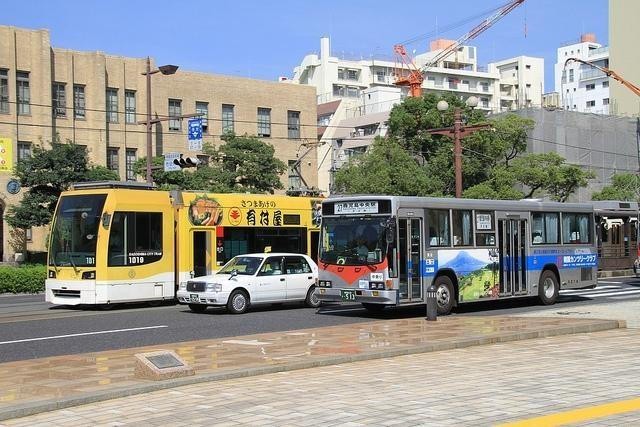bus: (43, 185, 322, 306), (312, 198, 596, 306), (633, 210, 640, 278)
car: (178, 252, 320, 314)
